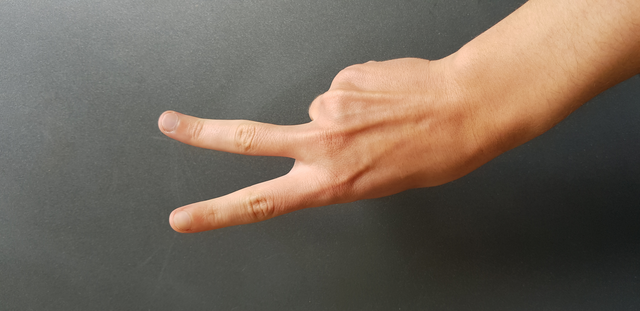Scissors: (132, 52, 484, 239)
